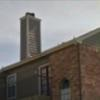chimneys: (20, 10, 42, 62)
